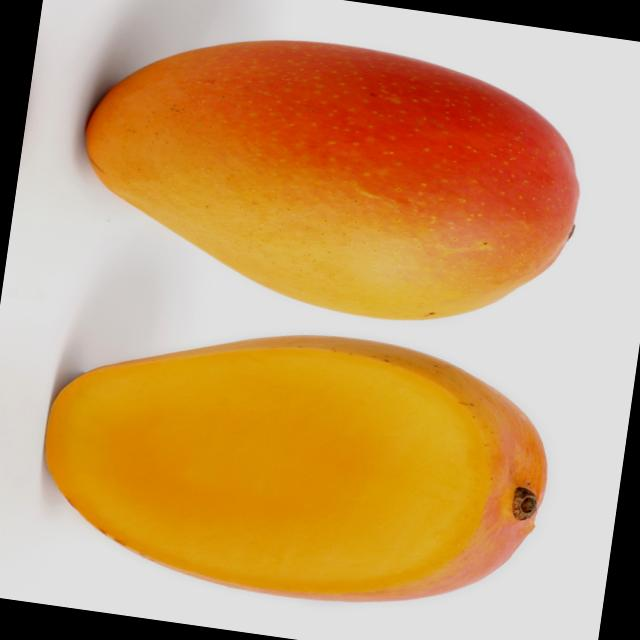mango: (26, 0, 623, 356), (20, 260, 576, 638)
